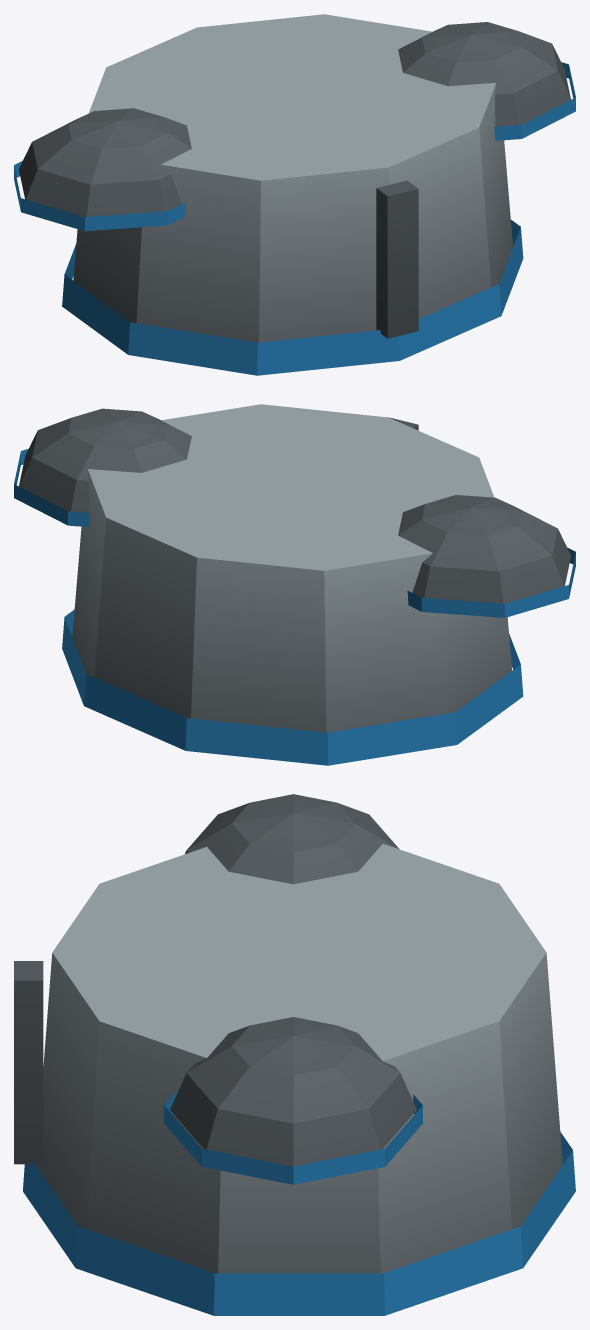
Rendered from berserker_guard_chest_t2.glb.
3 renders of one model, top to bottom at view 1: azimuth 30°, elevation 25°; view 2: azimuth 150°, elevation 25°; view 3: azimuth 270°, elevation 25°, orthographic. The views are drawn at different scales.
Visible parts, largest first — view 1: berserker_guard_chest_t2__chest; view 2: berserker_guard_chest_t2__chest; view 3: berserker_guard_chest_t2__chest.
Boxes of the visible parts, <box> form: berserker_guard_chest_t2__chest: <box>14,14,575,375</box>; berserker_guard_chest_t2__chest: <box>14,404,575,765</box>; berserker_guard_chest_t2__chest: <box>14,794,575,1315</box>.
Size of the model in its own units: 2.98 by 1.07 by 2.05.
Materials: 1 (1 with a texture image).
